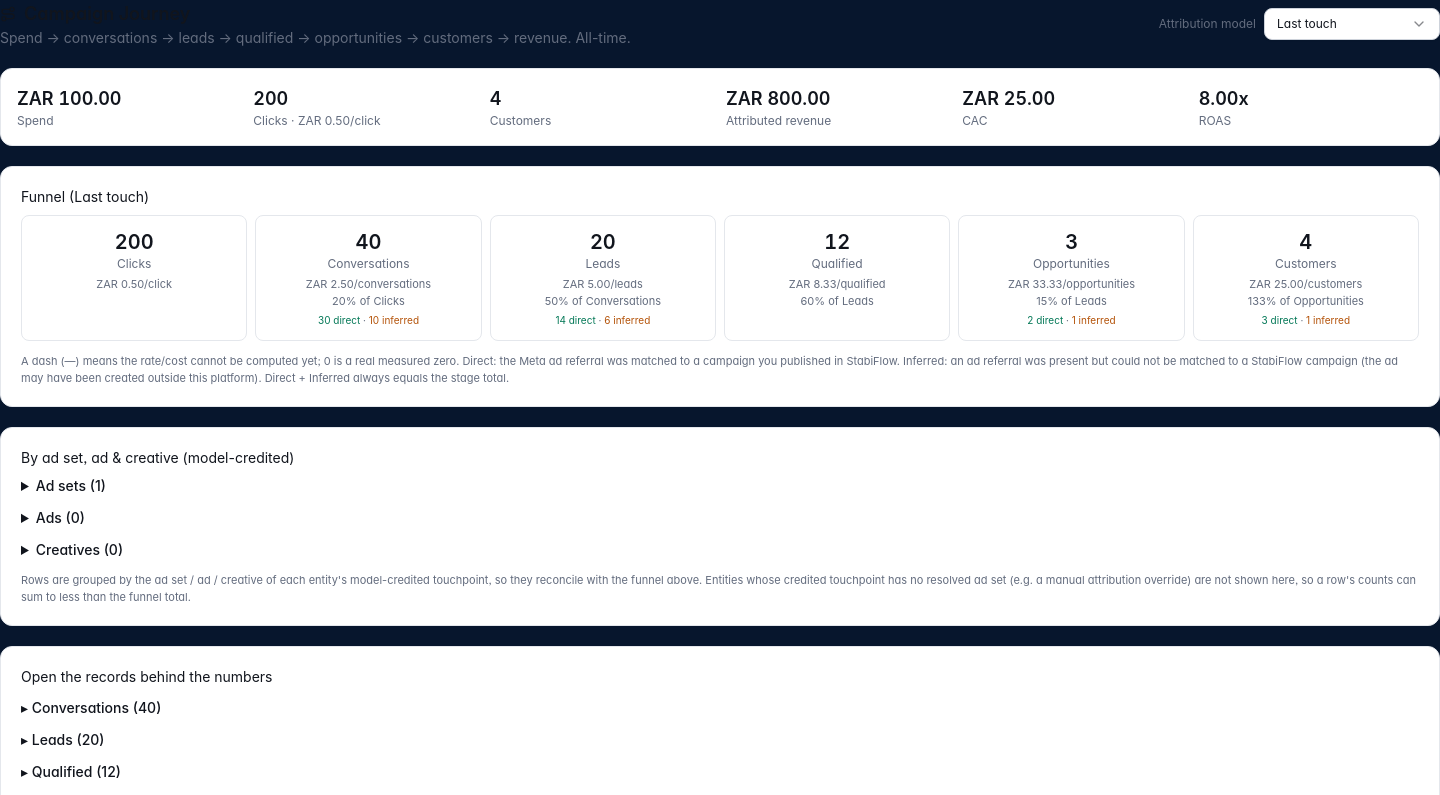
Test: CampaignJourney › shows pagination controls when a stage has more than one page of records
Click the button "▸ Conversations (40)".
click(80, 708)  # box [21,698,1419,718]
(page scrolled)
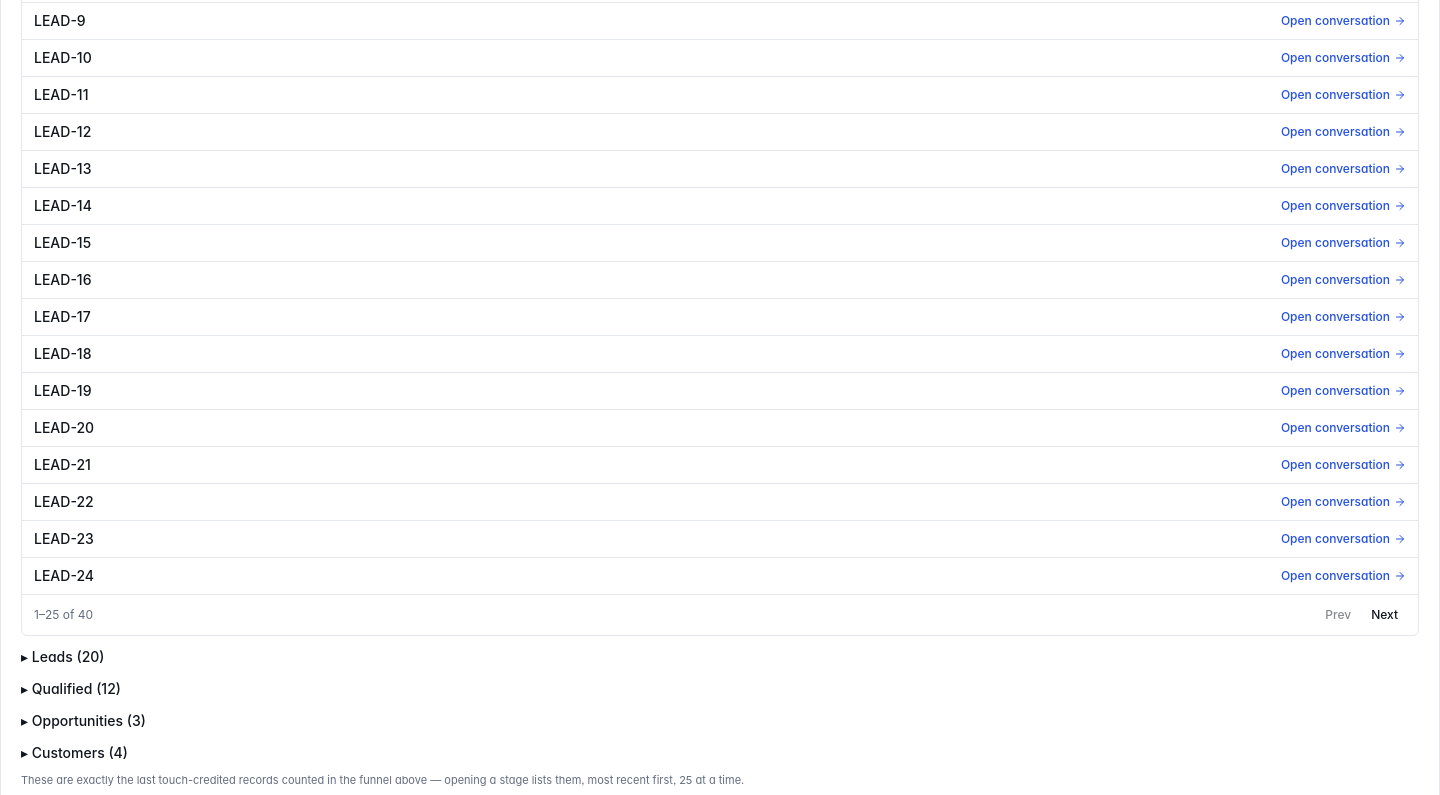
Check: the button "Next" is shown, box [1363,603,1406,627]
Check: the text "1–25 of 40" is shown, box [34,607,93,623]
